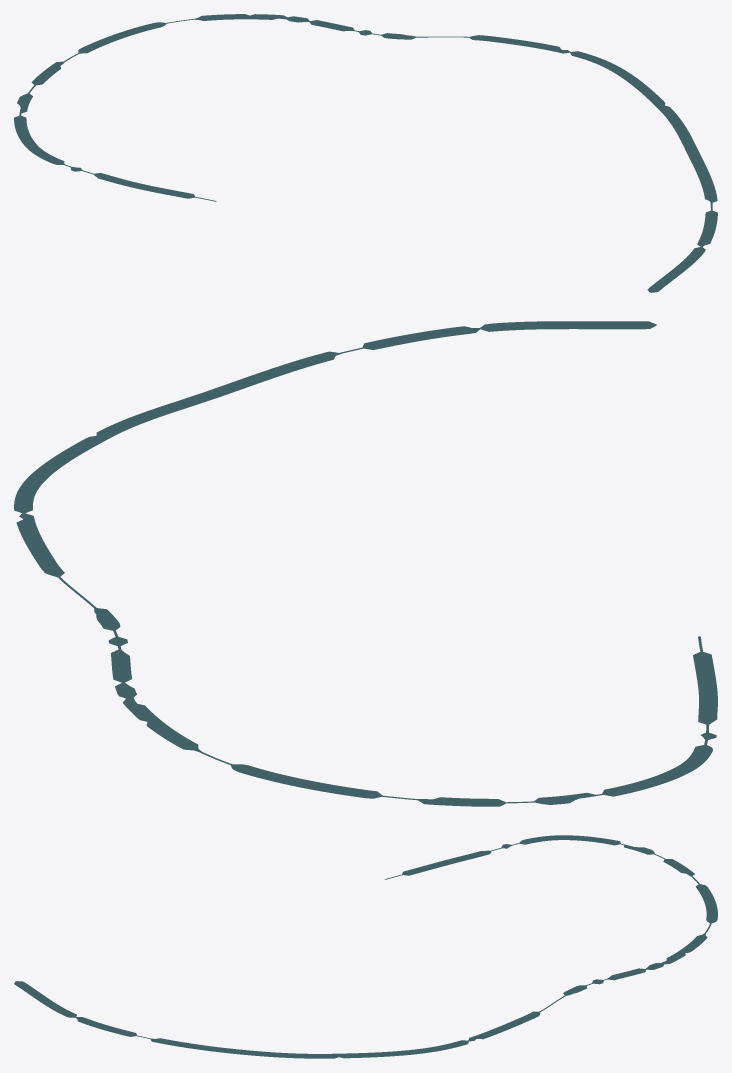
3 renders of one model, top to bottom at view 1: azimuth 30°, elevation 25°; view 2: azimuth 150°, elevation 25°; view 3: azimuth 270°, elevation 25°, orthographic. The views are drawn at different scales.
Parts seen in each view (by area): view 1: River; view 2: River; view 3: River.
Part boxes in pixels (x1,y1,x2,y2): River: (14, 14, 717, 292); River: (14, 321, 717, 806); River: (14, 835, 717, 1058).
Bounding box in the file's own units: 3844 × 142 × 4966.
